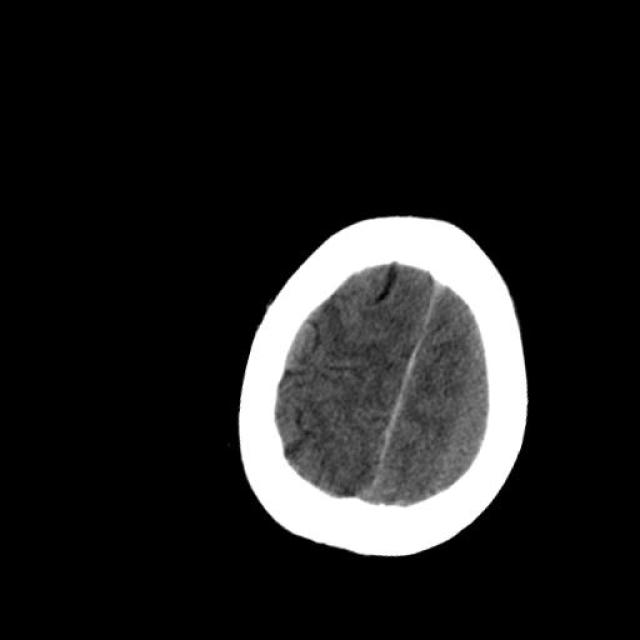Subdural: (352, 318, 438, 474)
